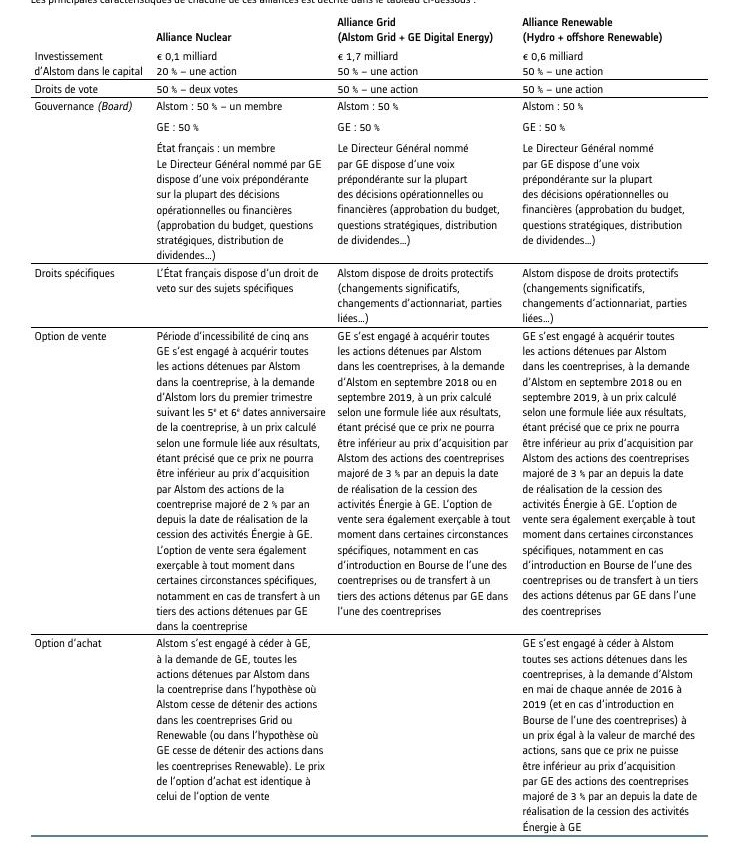table: (0, 0, 734, 866)
